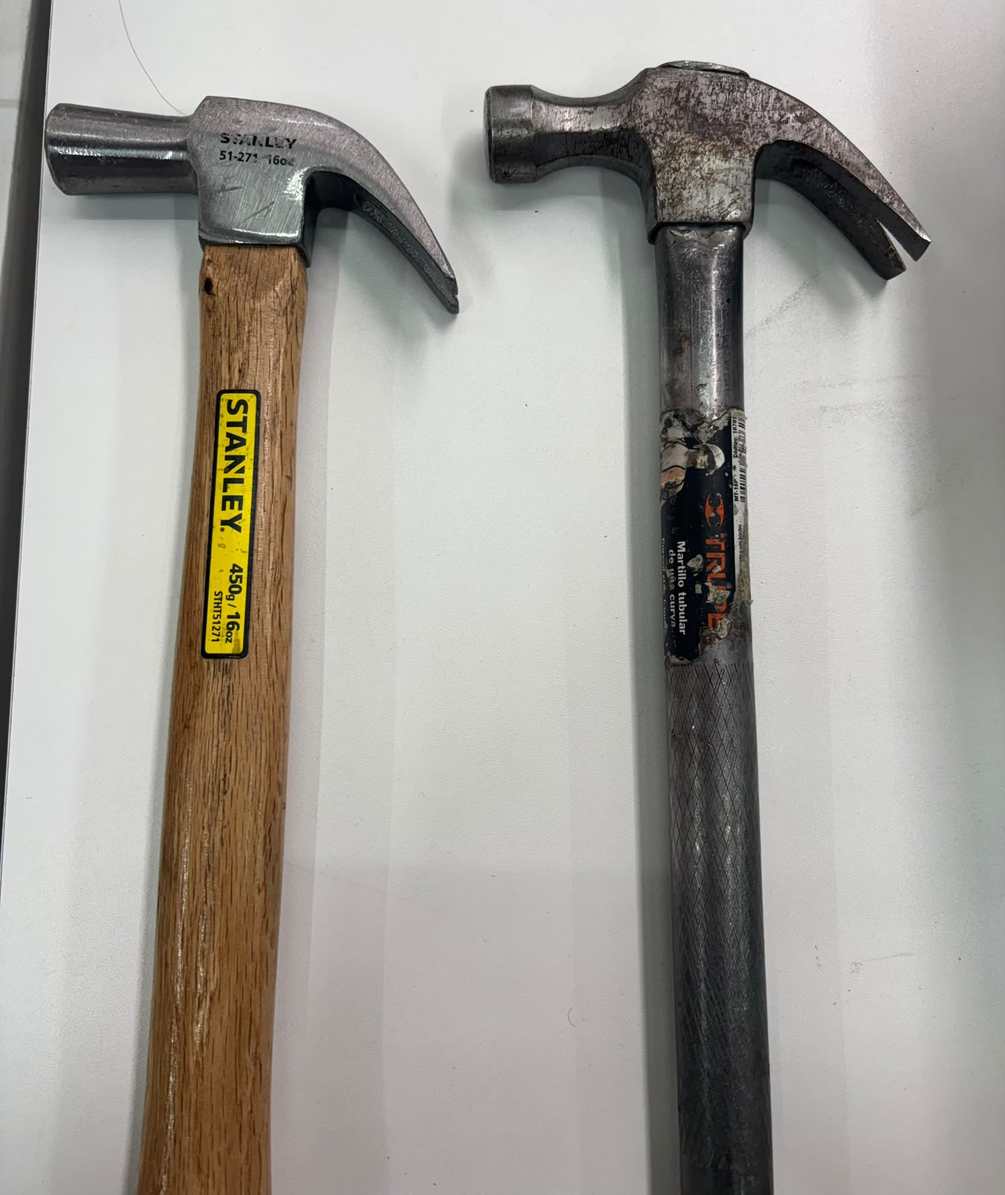hammer: (482, 69, 948, 1174), (26, 69, 466, 1139)
